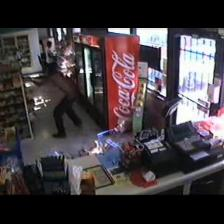person: (33, 63, 81, 137), (45, 41, 56, 74)
